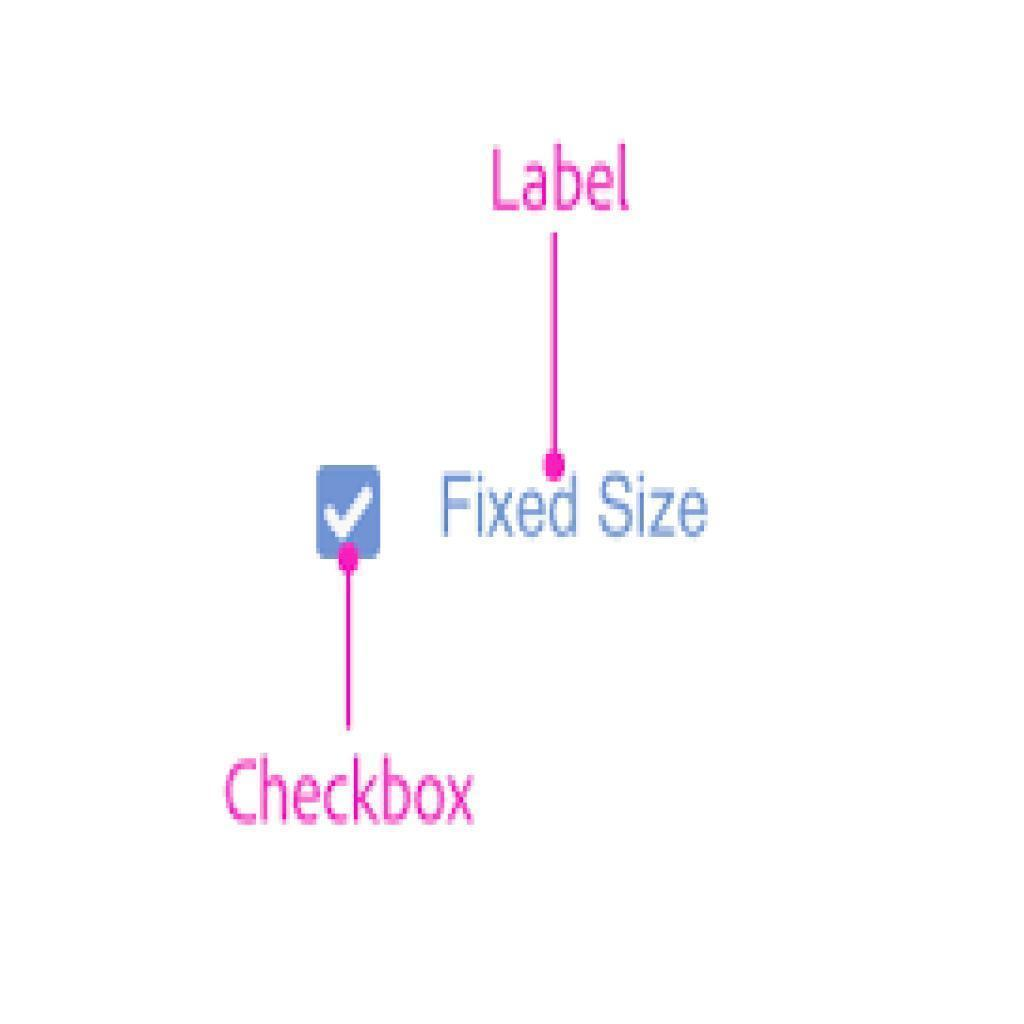checkbox: (314, 465, 381, 561)
